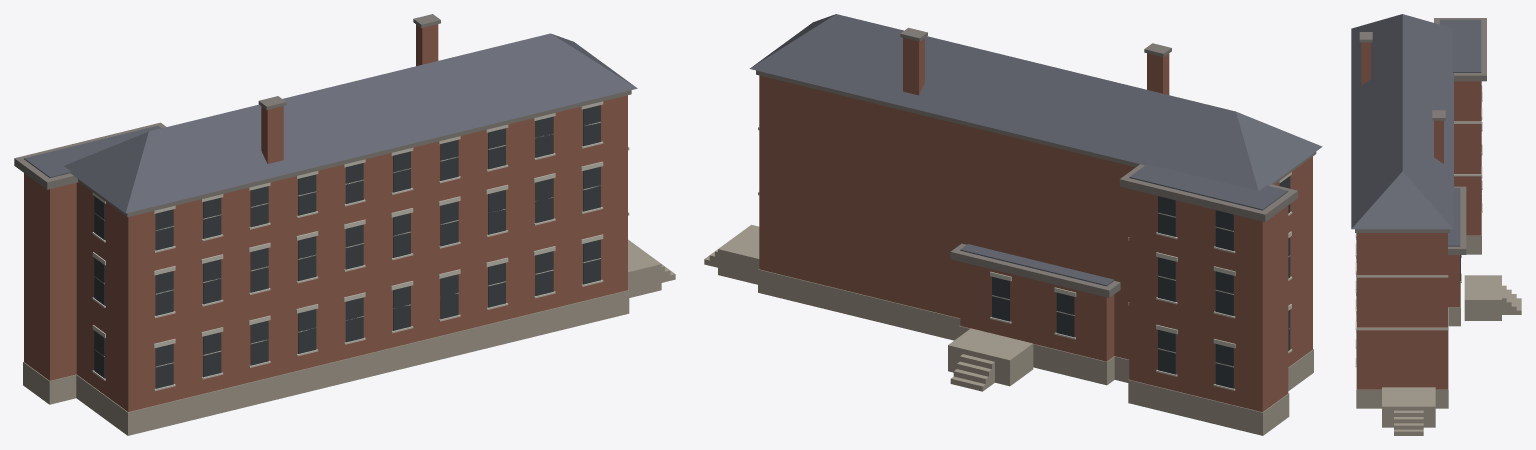
File: house_1839_indiana__draft_1904.glb
3 renders of one model, left to right at view 1: azimuth 30°, elevation 25°; view 2: azimuth 150°, elevation 25°; view 3: azimuth 270°, elevation 25°, orthographic. The views are drawn at different scales.
Parts seen in each view (by area): view 1: house_1839_indiana__draft_1904; view 2: house_1839_indiana__draft_1904; view 3: house_1839_indiana__draft_1904.
Part boxes in pixels (<box>): house_1839_indiana__draft_1904: <box>14,14,675,435</box>; house_1839_indiana__draft_1904: <box>704,14,1322,435</box>; house_1839_indiana__draft_1904: <box>1351,14,1521,435</box>.
Size of the model in its own units: 33.8 by 15.7 by 10.3.
